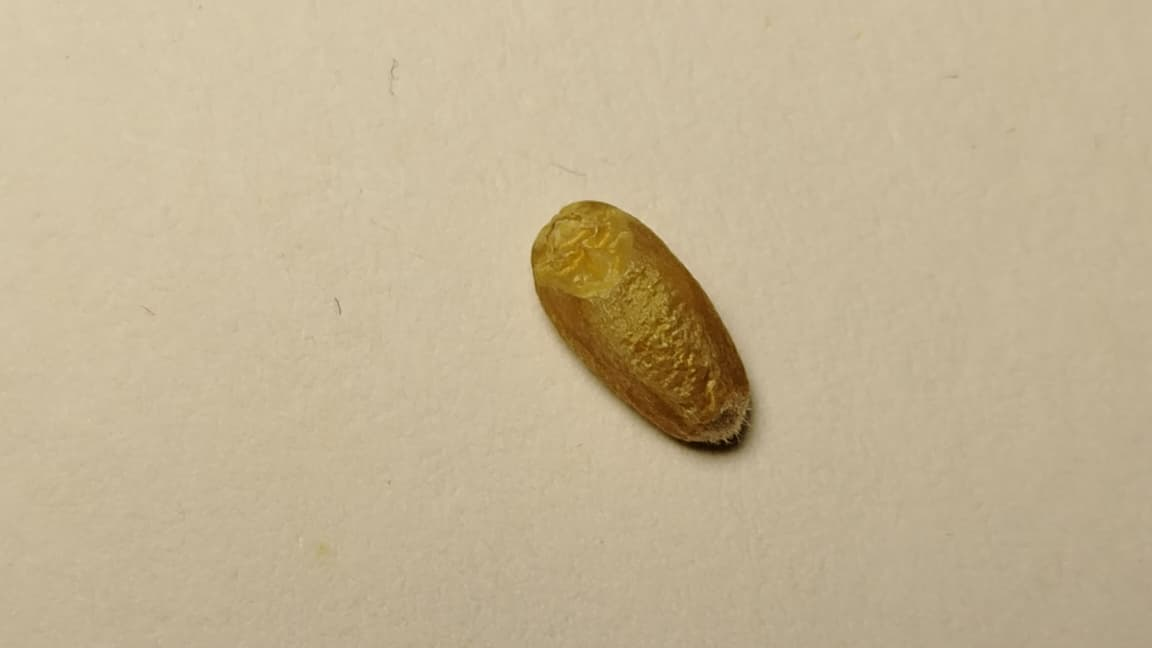healthy: (533, 201, 746, 440)
